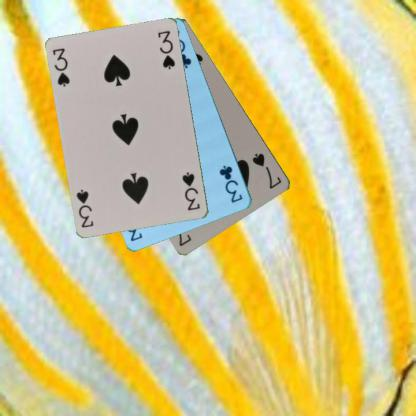3c: (216, 162, 244, 204)
3s: (180, 169, 202, 212), (50, 46, 72, 89)
7s: (250, 150, 283, 191)
